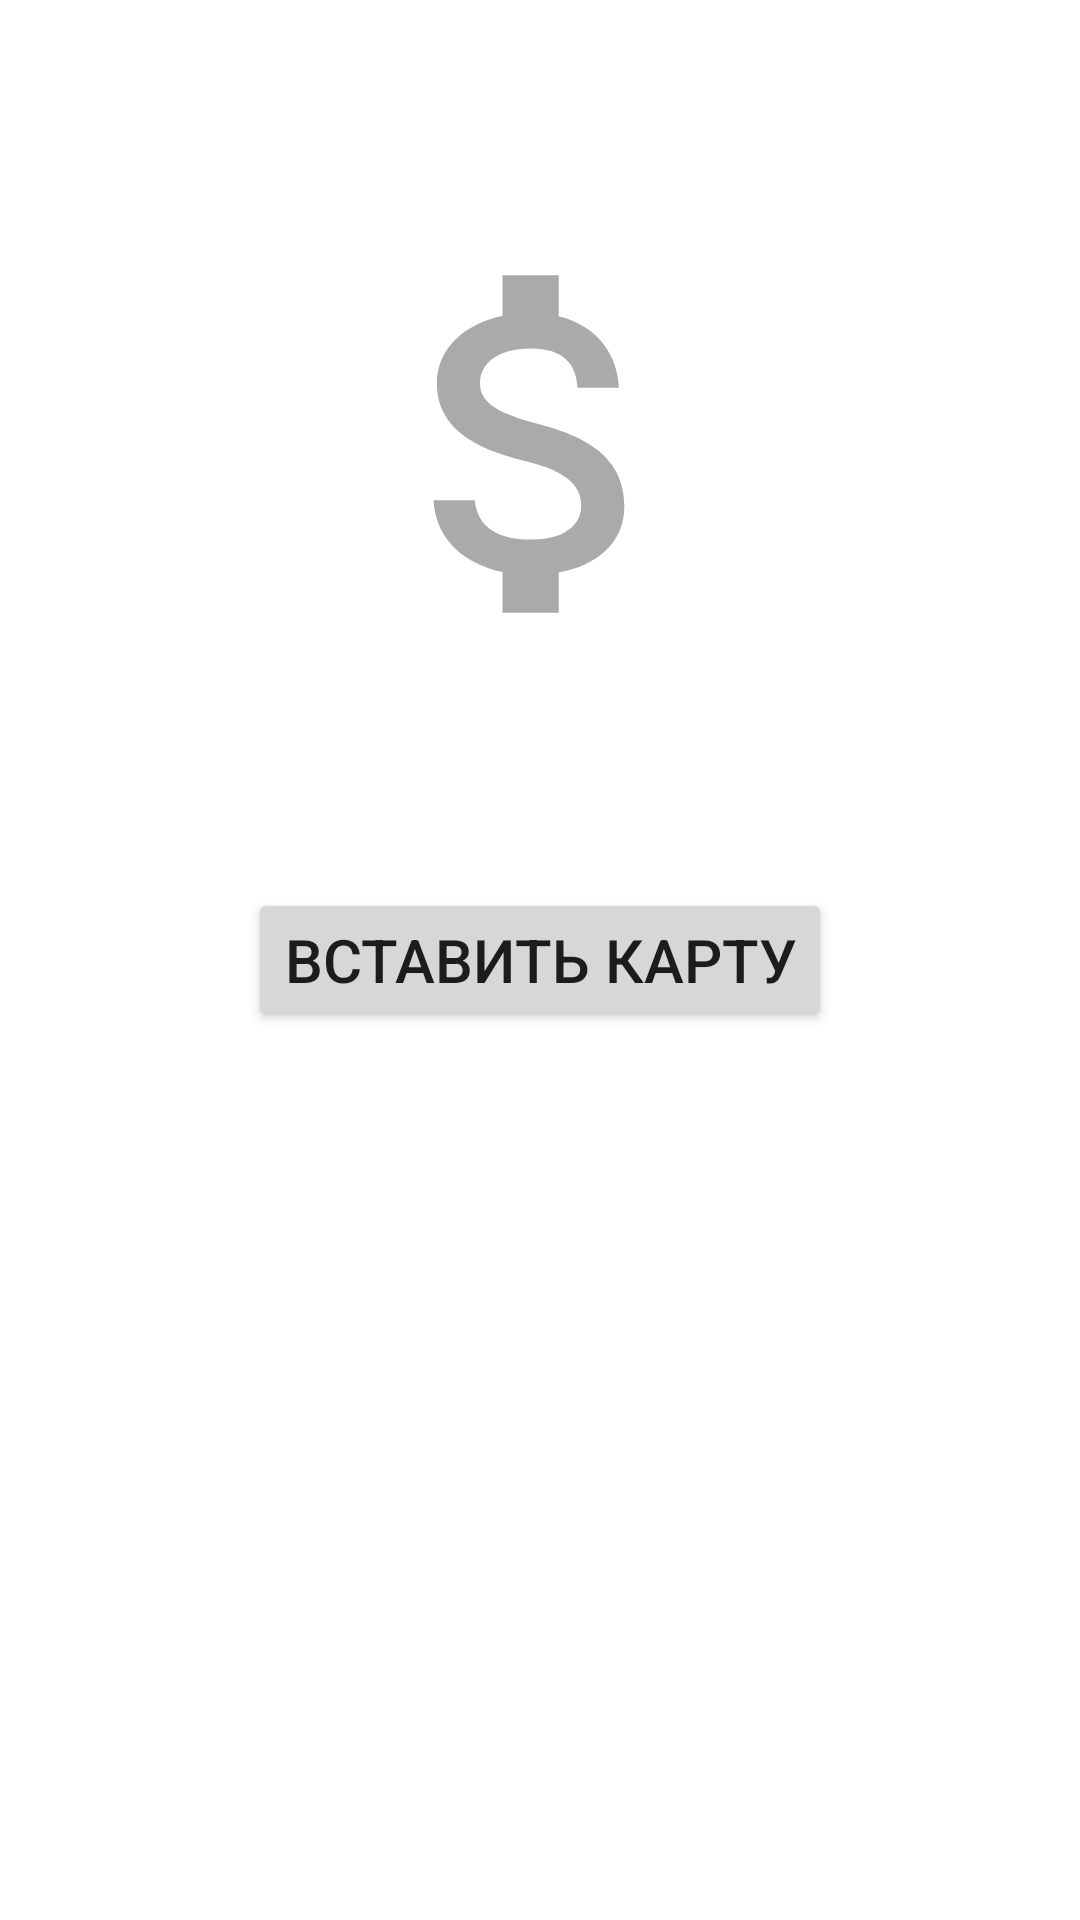

Named icons in this screenshot (1080px x 1920px) and their bounding boxes, [x1, y1, x2, y2]:
attach money: [433, 275, 625, 613]
